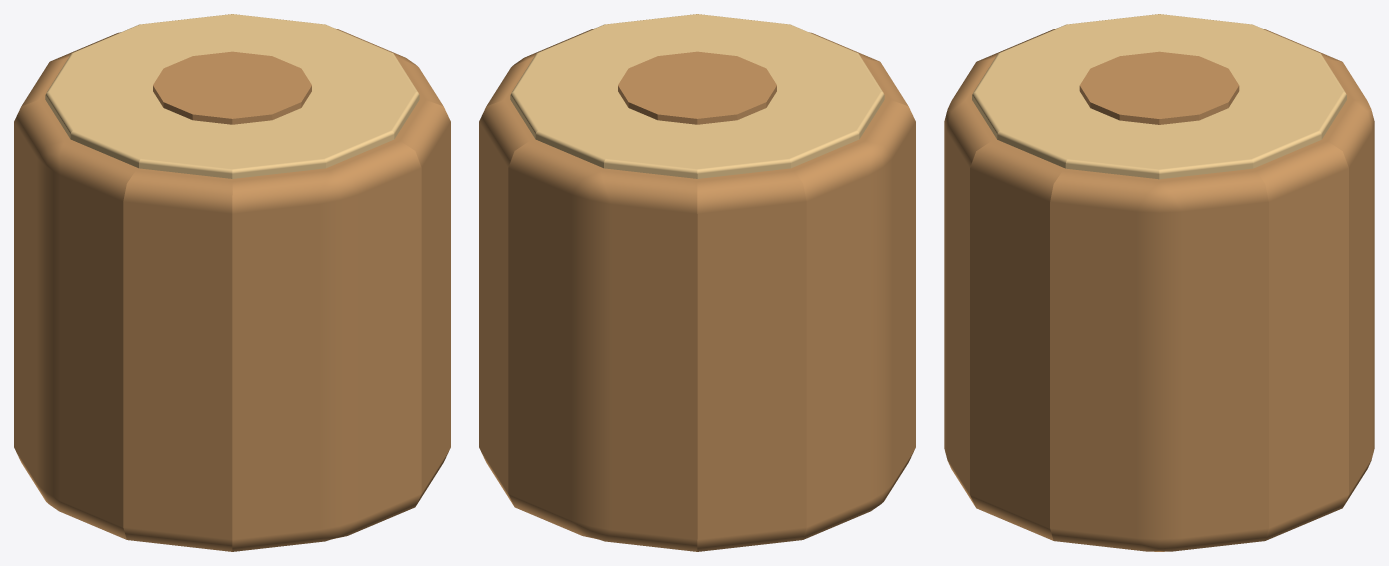
Rendered from Tree_Stump_Large.fbx.
The picture shows the model from 3 angles, left to right: view 1: azimuth 30°, elevation 25°; view 2: azimuth 150°, elevation 25°; view 3: azimuth 270°, elevation 25°; orthographic projection.
Visible parts, largest first — view 1: Wide cut stump, Fresh pale cut, Heartwood ring; view 2: Wide cut stump, Fresh pale cut, Heartwood ring; view 3: Wide cut stump, Fresh pale cut, Heartwood ring.
Part boxes in pixels (x1,y1,x2,y2): Wide cut stump: [14, 29, 450, 551]; Fresh pale cut: [45, 14, 419, 178]; Heartwood ring: [153, 51, 311, 124]; Wide cut stump: [479, 29, 915, 551]; Fresh pale cut: [510, 14, 884, 178]; Heartwood ring: [618, 51, 776, 124]; Wide cut stump: [944, 29, 1374, 551]; Fresh pale cut: [972, 14, 1346, 179]; Heartwood ring: [1079, 51, 1239, 124].
Bounding box in the file's own units: 232 × 229 × 232.
